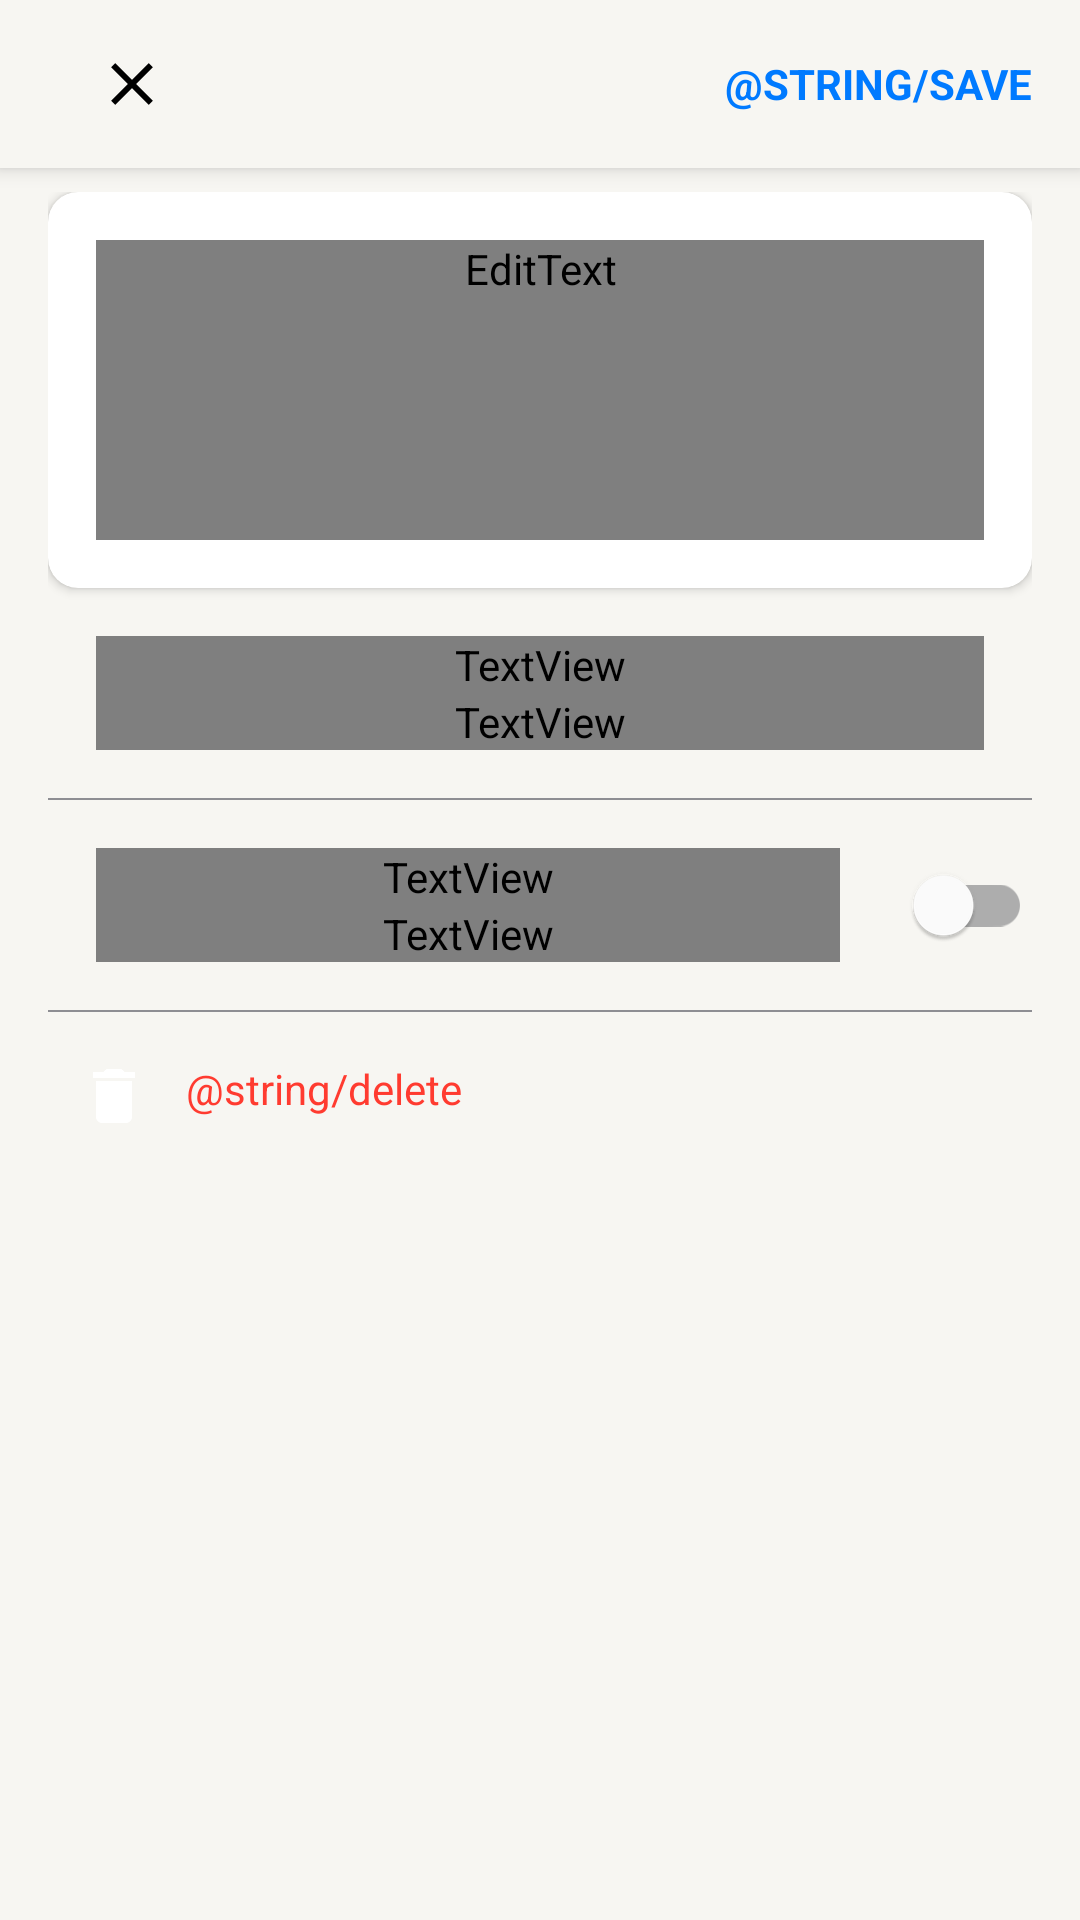

Where icons sit on this 1080*1920 app screen, as (x1, y1, x2, y2):
close: (111, 63, 153, 105)
